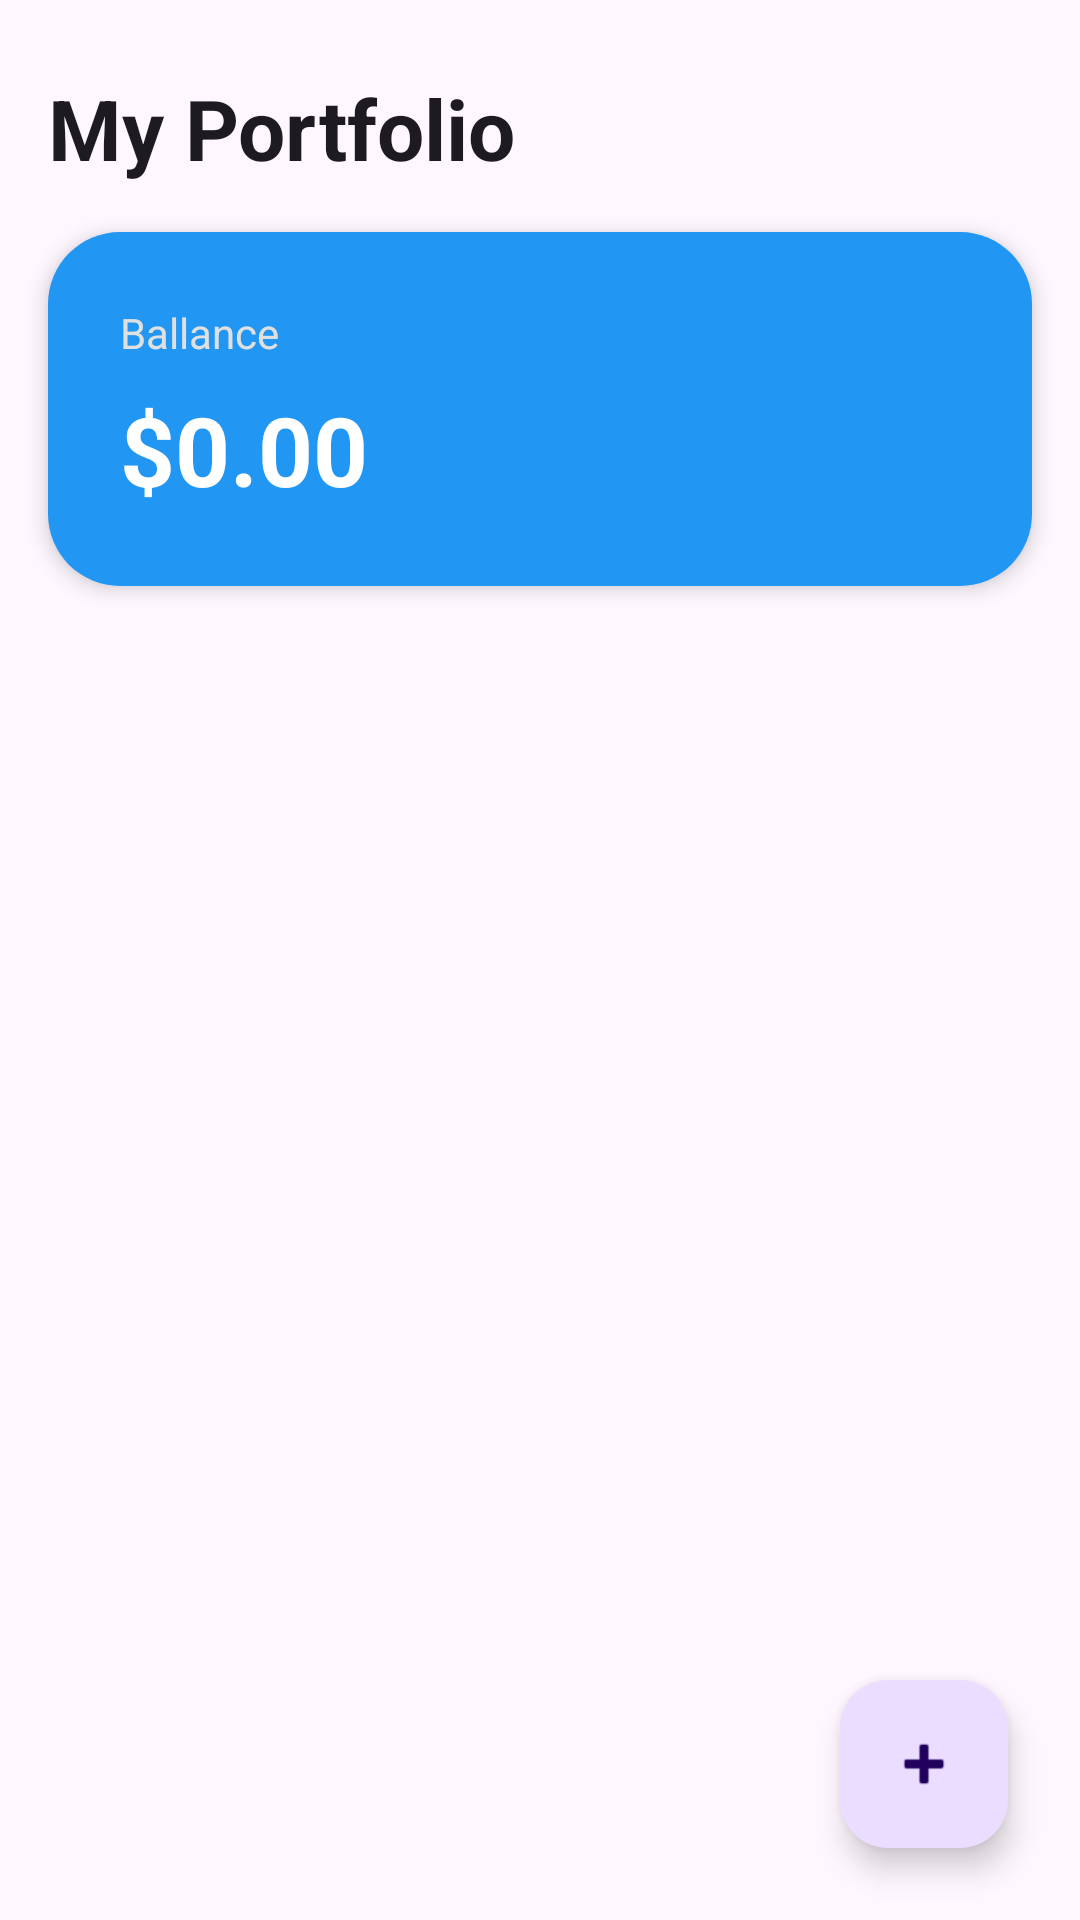

Icon click points for this 1080x1920 phone screenshot, format (x,y):
Add Active: (924,1764)
